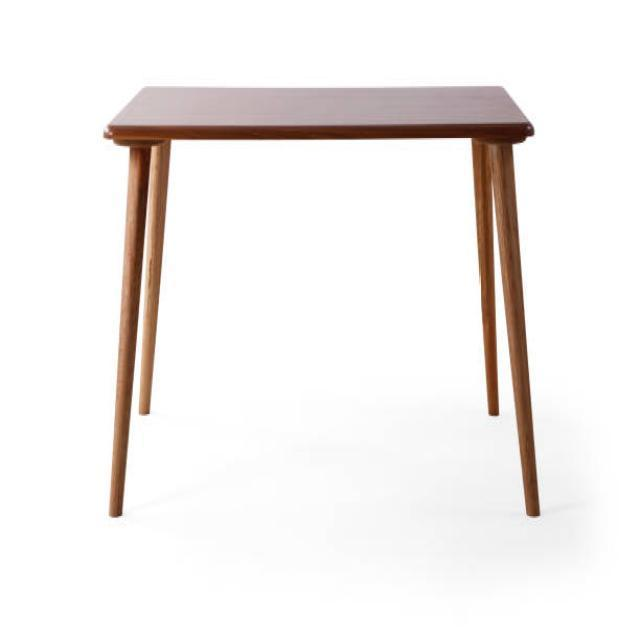table: (102, 83, 540, 521)
